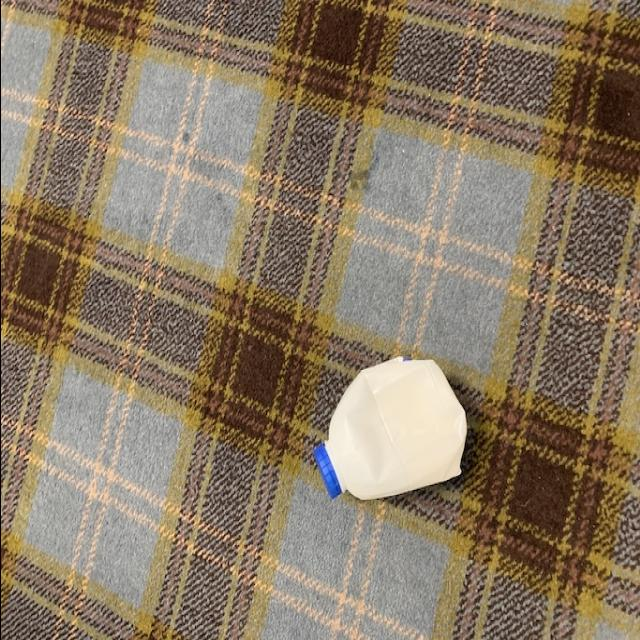HDPEM: (310, 348, 470, 518)
